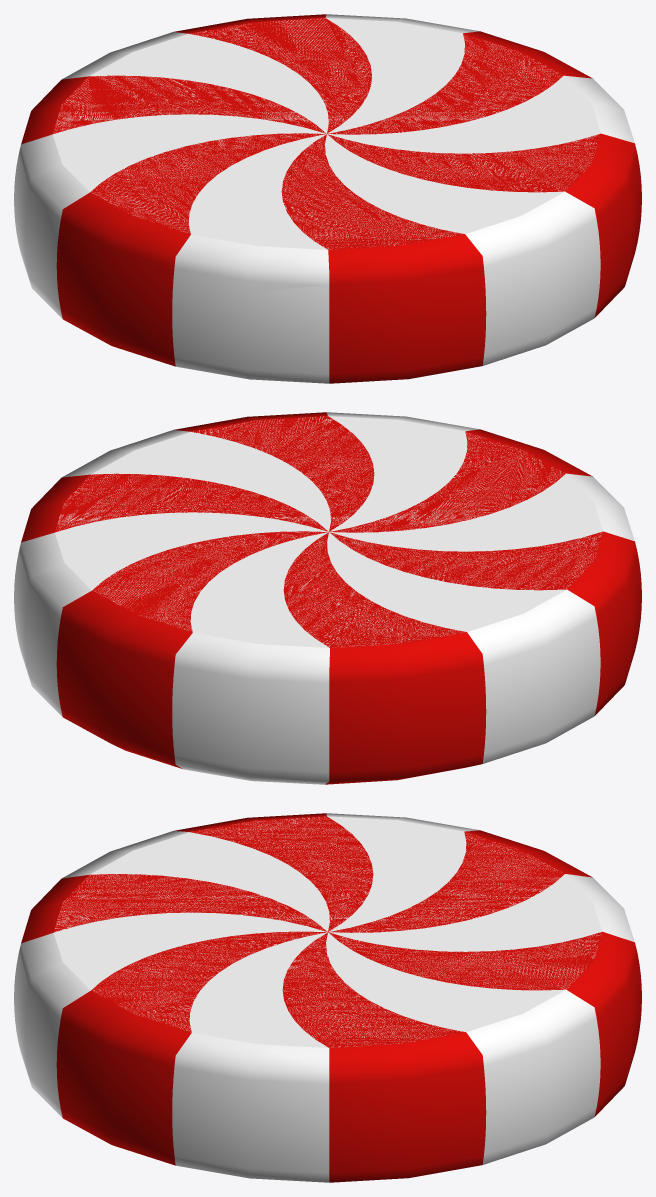
Rendered from Candy.dae.
3 renders of one model, top to bottom at view 1: azimuth 30°, elevation 25°; view 2: azimuth 150°, elevation 25°; view 3: azimuth 270°, elevation 25°, orthographic.
Visible parts, largest first — view 1: group_0 (×13); view 2: group_0 (×13); view 3: group_0 (×13).
Boxes of the visible parts, bbox=[...] form: group_0 (×13): bbox=[14, 14, 641, 383]; group_0 (×13): bbox=[14, 412, 641, 784]; group_0 (×13): bbox=[14, 813, 641, 1182].
Size of the model in its own units: 27.84 by 27.84 by 6.38.
